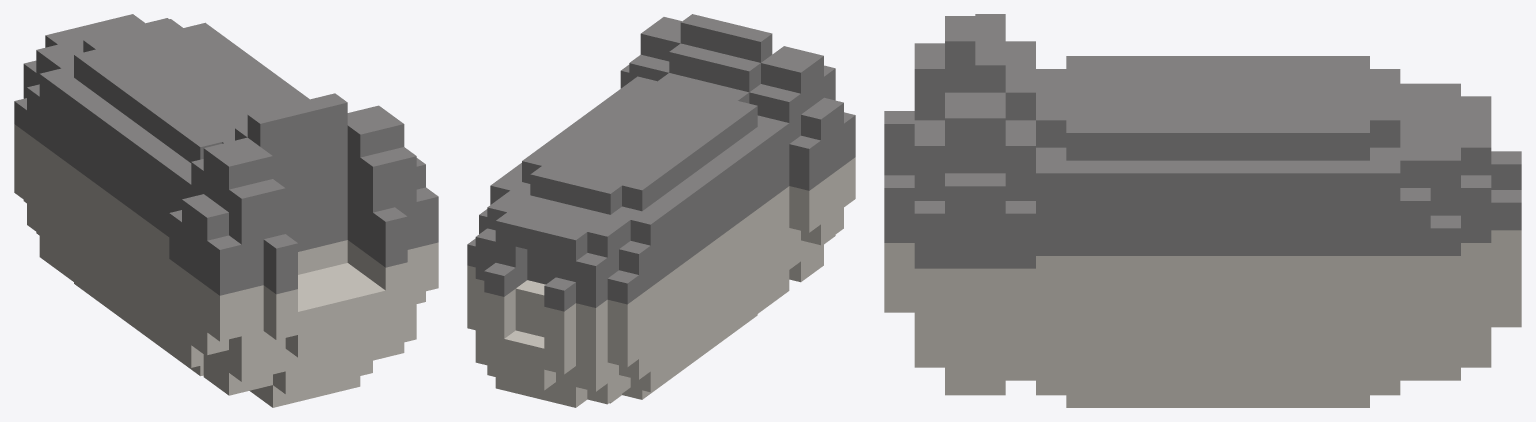
The model's file is wolf__body.glb.
The picture shows the model from 3 angles, left to right: view 1: azimuth 30°, elevation 25°; view 2: azimuth 150°, elevation 25°; view 3: azimuth 270°, elevation 25°; orthographic projection. The views are drawn at different scales.
Visible parts, largest first — view 1: wolf__body; view 2: wolf__body; view 3: wolf__body.
Part boxes in pixels (bbox=[...]): wolf__body: bbox=[14, 14, 438, 407]; wolf__body: bbox=[467, 14, 855, 407]; wolf__body: bbox=[884, 14, 1521, 407].
Size of the model in its own units: 1 by 1.2 by 2.1.
1 material, 1 textured.
